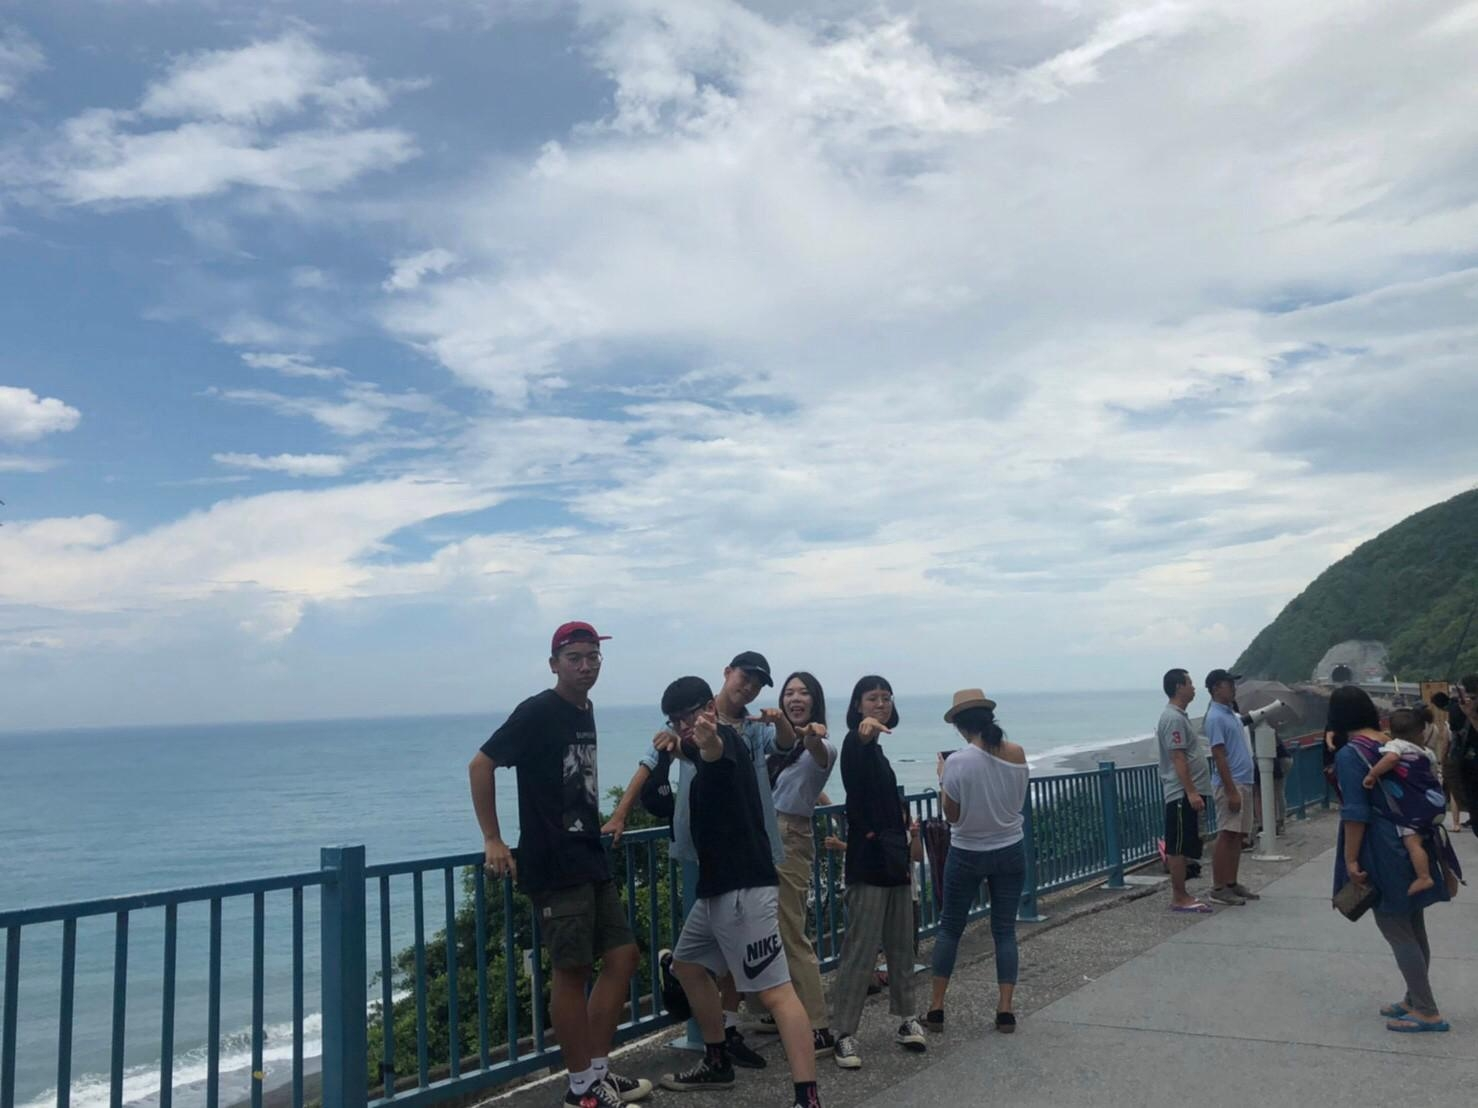people: (652, 675, 811, 1108), (515, 621, 640, 1108), (827, 671, 936, 1063), (1319, 675, 1425, 1057), (925, 682, 1033, 1046), (771, 661, 829, 1065), (1365, 709, 1465, 894), (1200, 663, 1271, 921), (1140, 669, 1208, 917), (692, 644, 779, 815)
